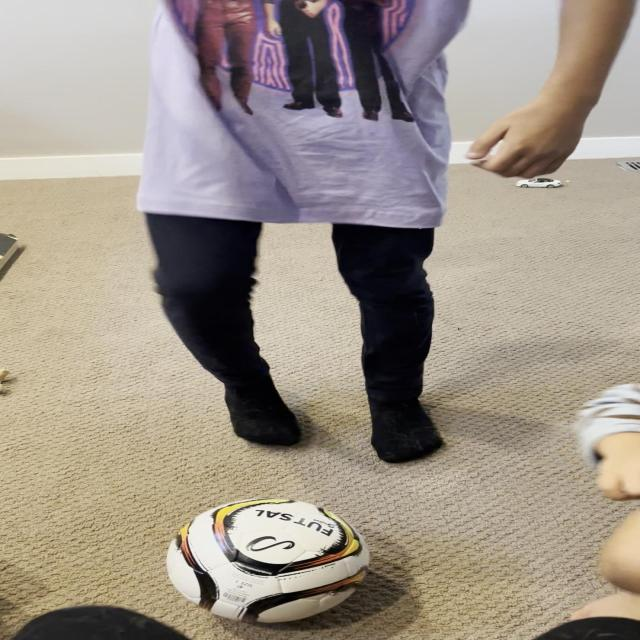Soccer Ball: (165, 499, 372, 624)
